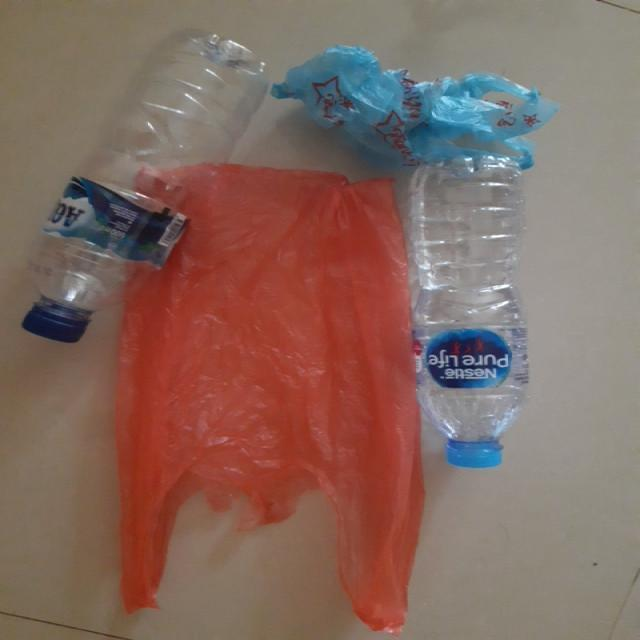Single-layer Plastic: (116, 165, 424, 631), (271, 45, 559, 169)
